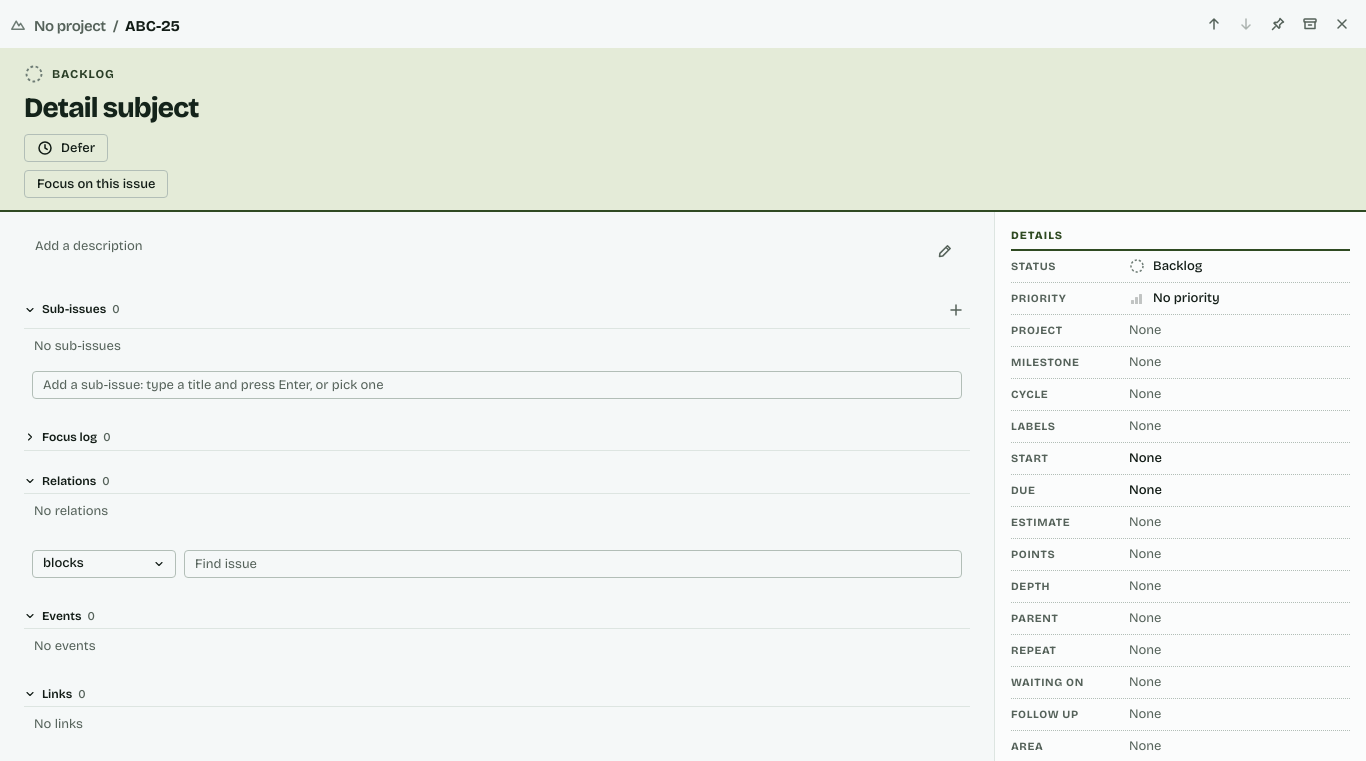
Test: IssueDetail › pin_and_archive_actions
Click the button named "Pin issue". click: [1278, 24]
box: top-left (1264, 10), bottom-right (1292, 38)
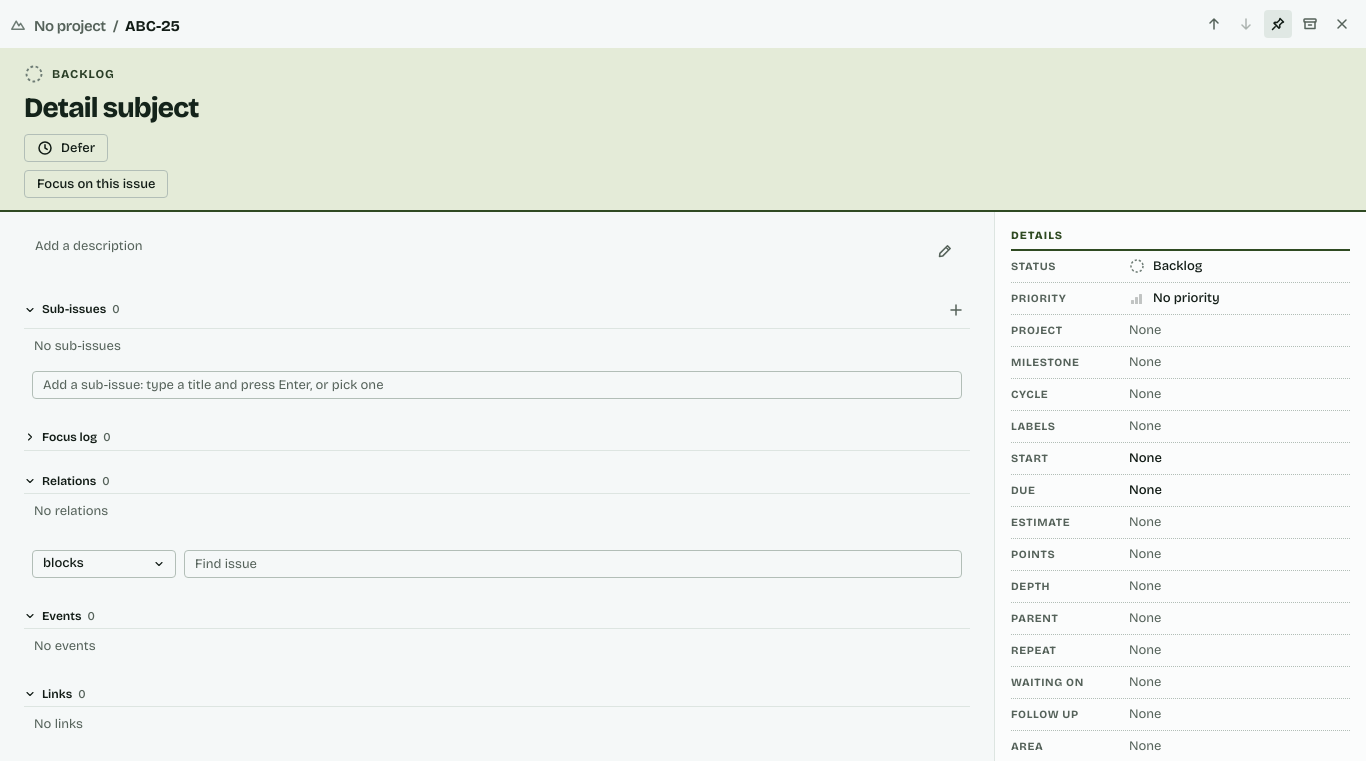
Click the button named "Unpin issue". click: [1278, 24]
box: top-left (1264, 10), bottom-right (1292, 38)
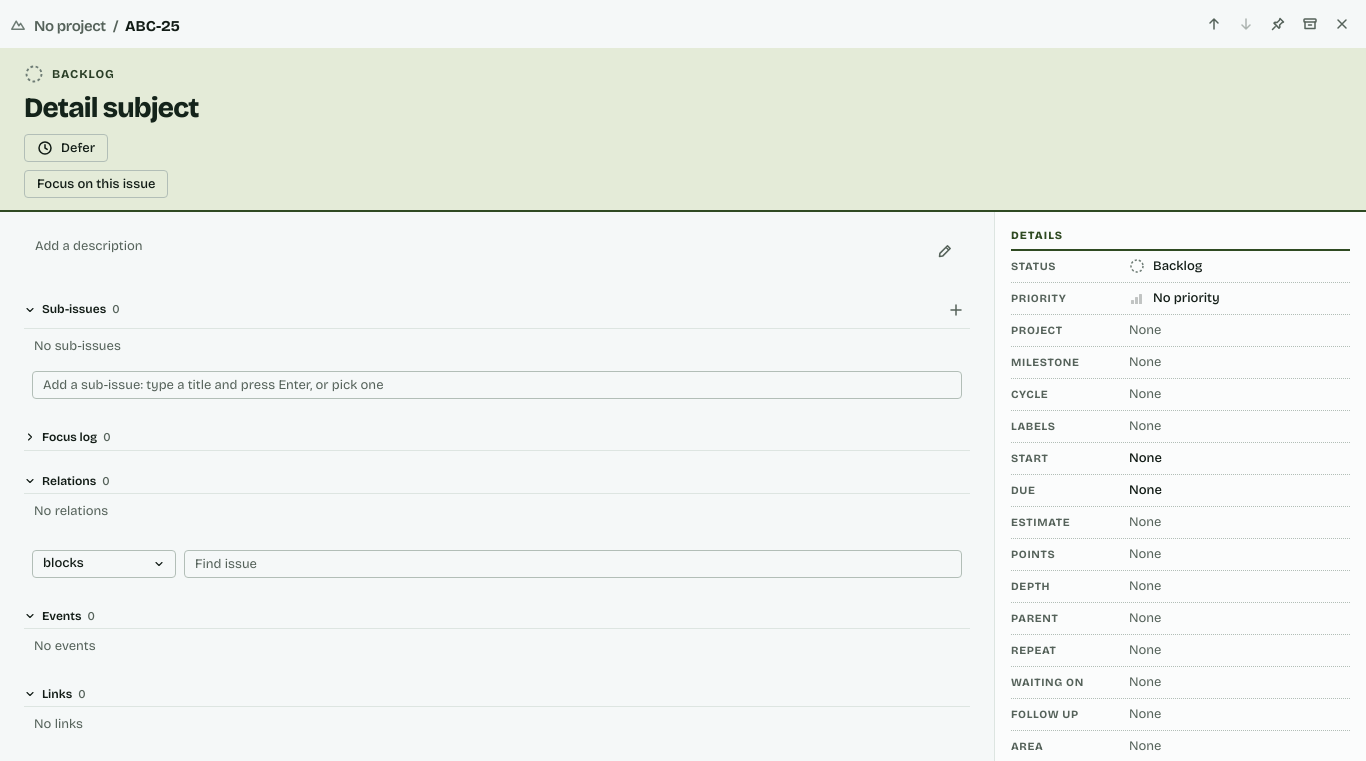
Click the button named "Archive issue". click: [1310, 24]
box: top-left (1296, 10), bottom-right (1324, 38)
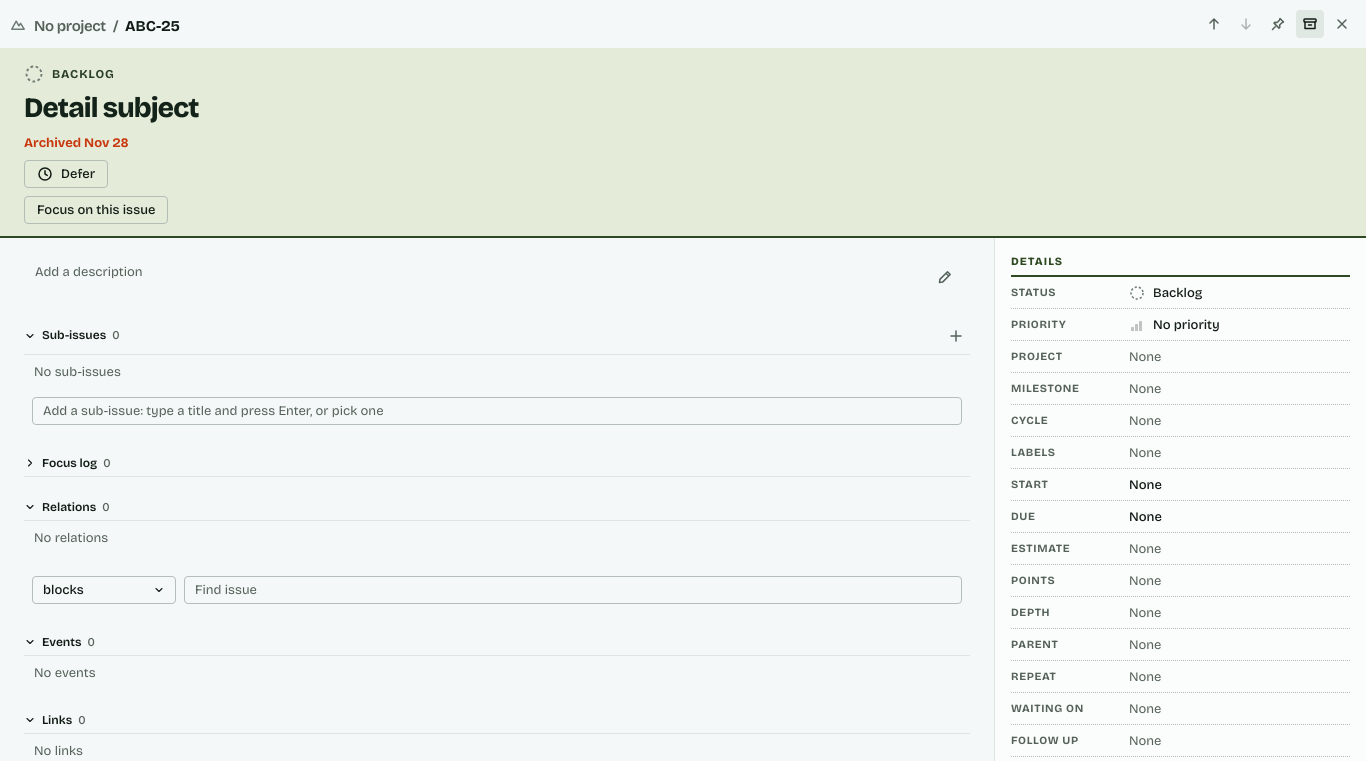
Check: the text with class "arch" shows "Archived", box top-left (24, 135), bottom-right (129, 151)
